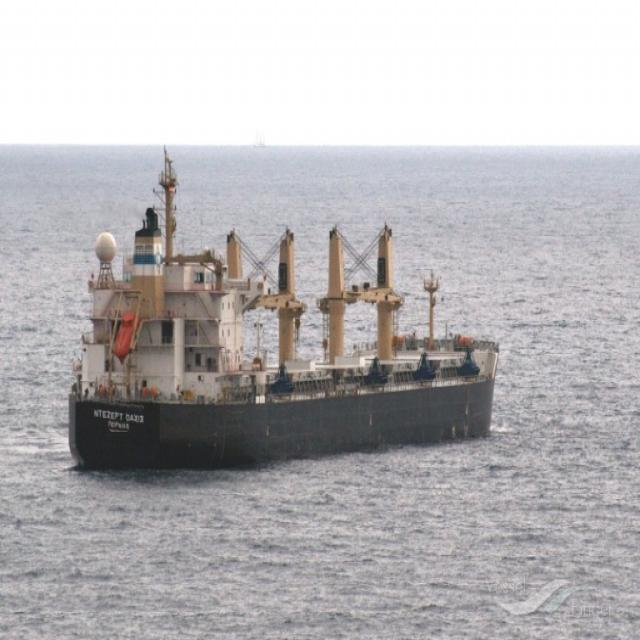OCR: (88, 399, 144, 432)
